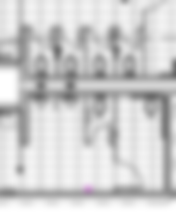door: (113, 160, 144, 191), (118, 24, 142, 49), (89, 122, 112, 148), (60, 25, 83, 50), (90, 25, 112, 51), (30, 25, 53, 49)
